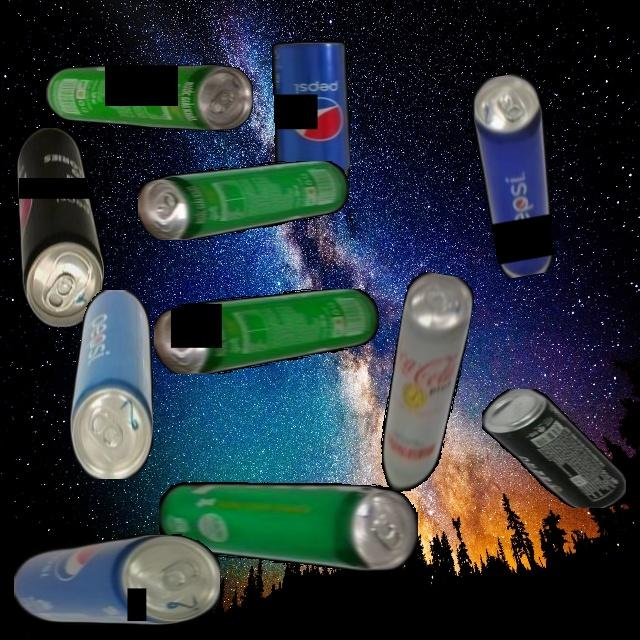debris: (372, 269, 477, 498), (158, 479, 418, 571), (467, 70, 570, 280), (154, 288, 379, 374), (13, 534, 220, 625), (16, 127, 104, 327), (481, 389, 626, 508), (138, 160, 349, 240), (69, 289, 153, 479), (45, 64, 253, 132), (271, 41, 350, 179)
